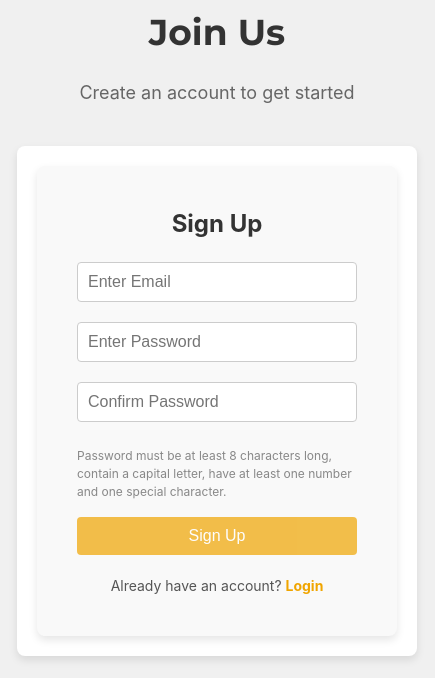
Scenario: Signup Page Tests › navigates to login page when "Login" link is clicked on signup page
Find the "Login" link and click it
Click the link "Login".
click(304, 585)  # box [286, 576, 323, 594]
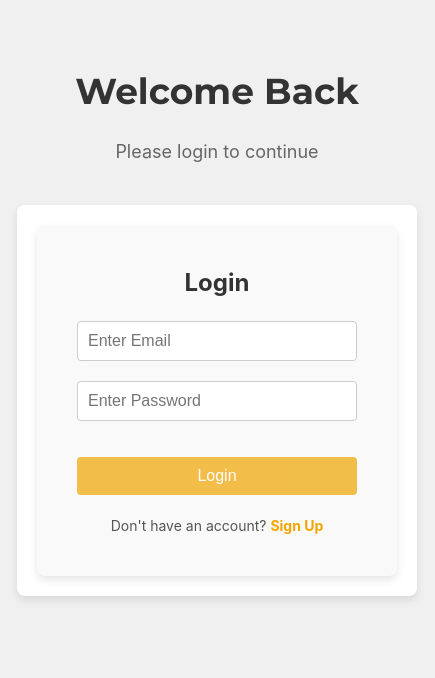
Now the heading "Welcome Back" is shown, box [75, 64, 359, 118]
Now the text "Please login to continue" is shown, box [115, 138, 319, 165]
